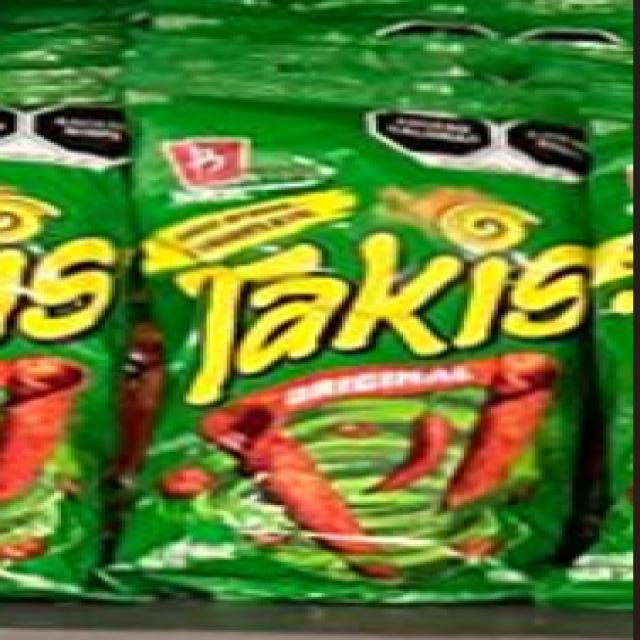takisOriginal: (137, 48, 578, 606), (4, 93, 110, 594)
